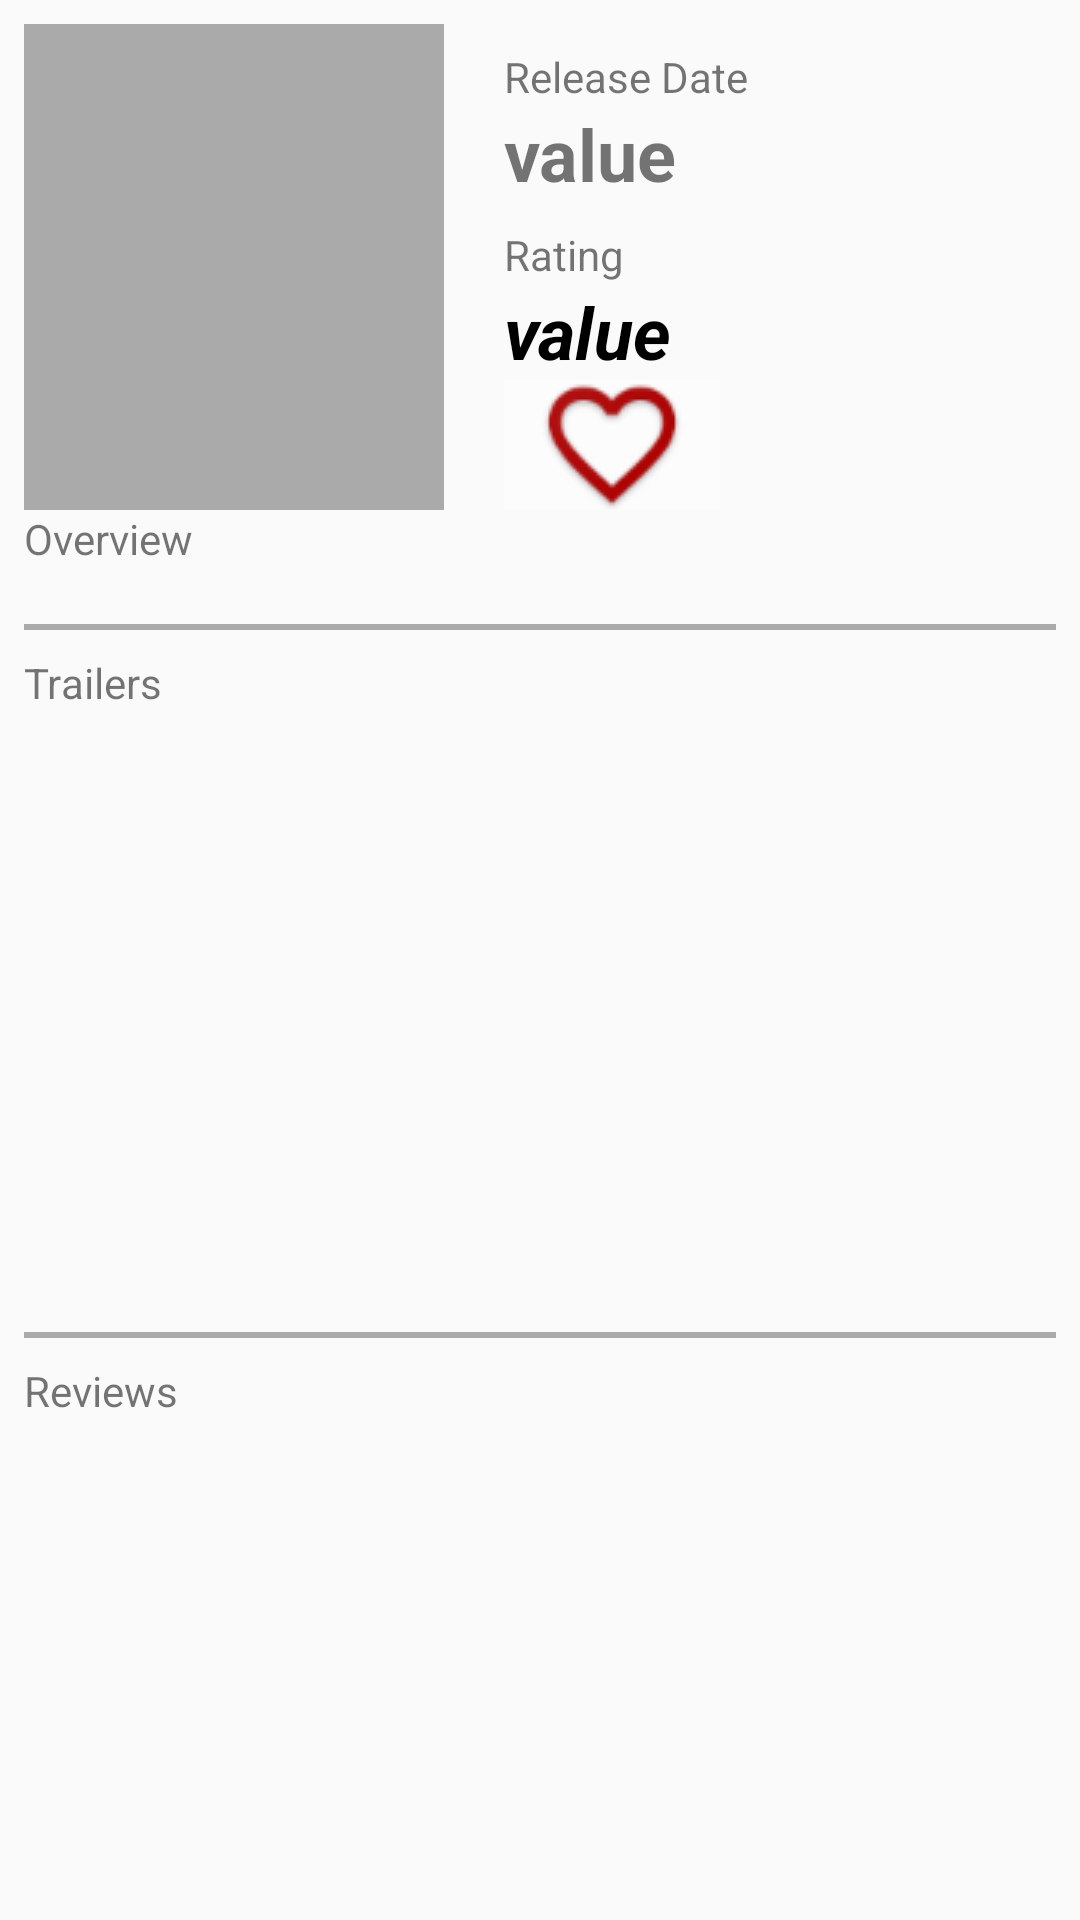

Screen size 1080*1920. Icon name, then its center in pixels as point (x, y):
Add the movie to favourates: point (612, 445)
